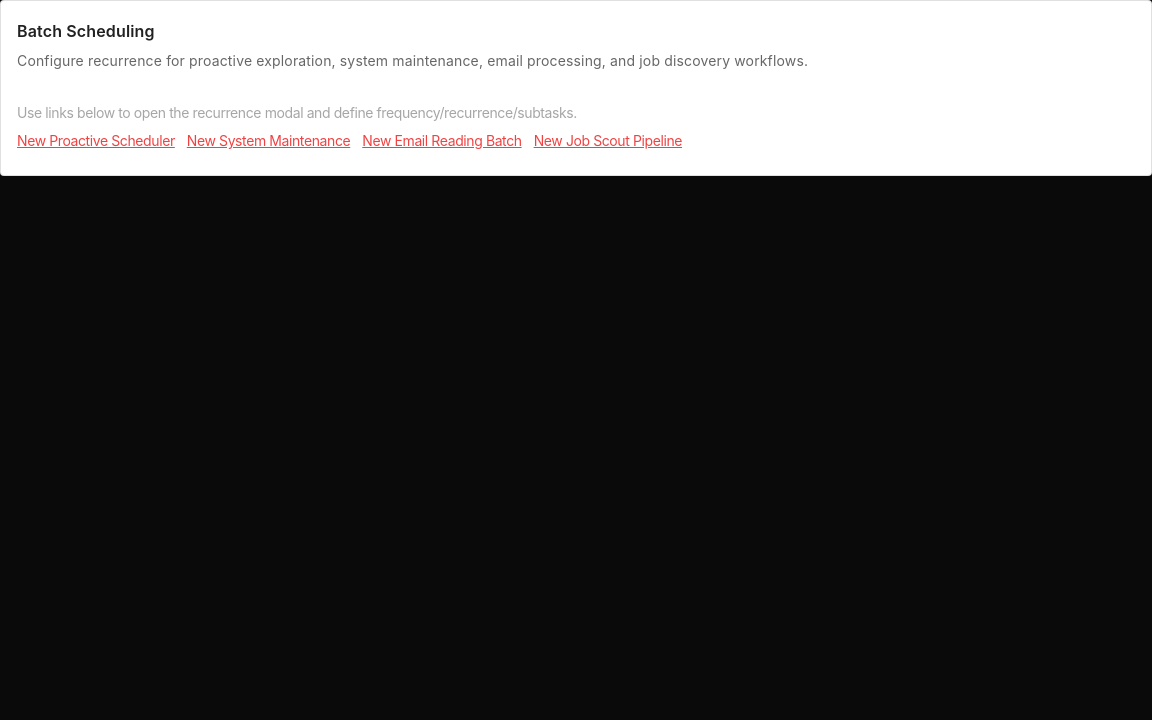
Test: SchedulerConfig — interactions › job_scout batch shows Max Agent Iterations dropdown
This screenshot has width=1152, height=720.
Step 1. Click the button "New Job Scout Pipeline" → (608, 141), box [534,131,682,151]
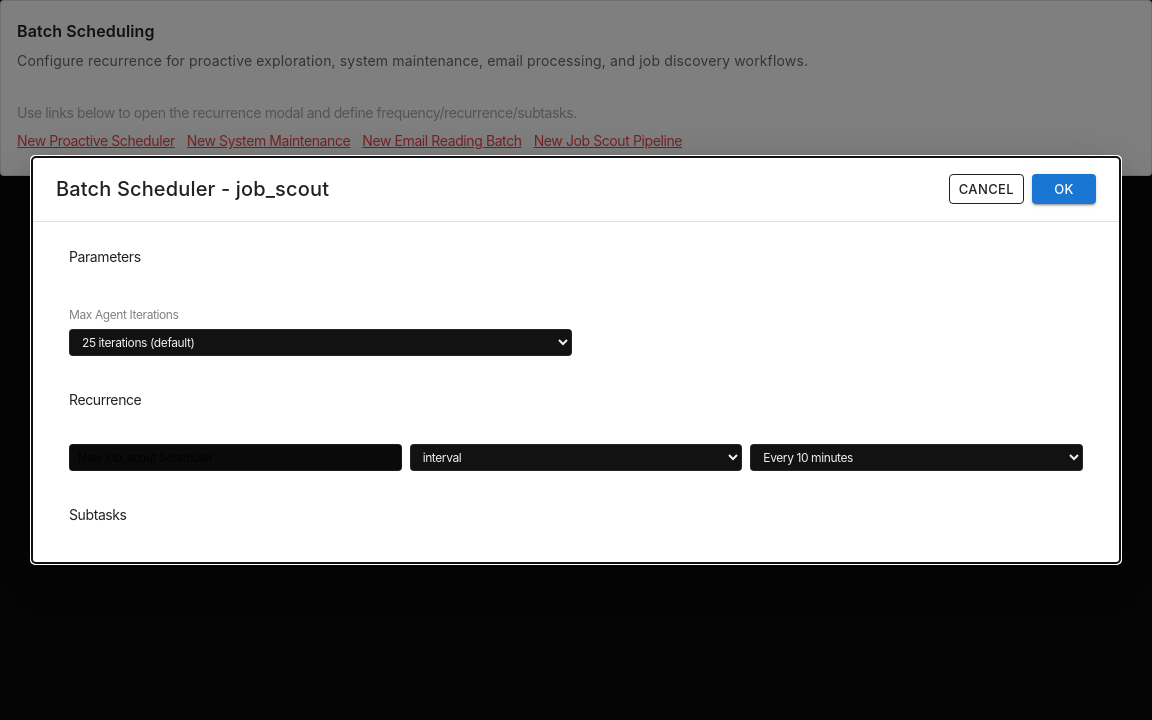
Now the text "Max Agent Iterations" is shown, box [69,307,178,322]
